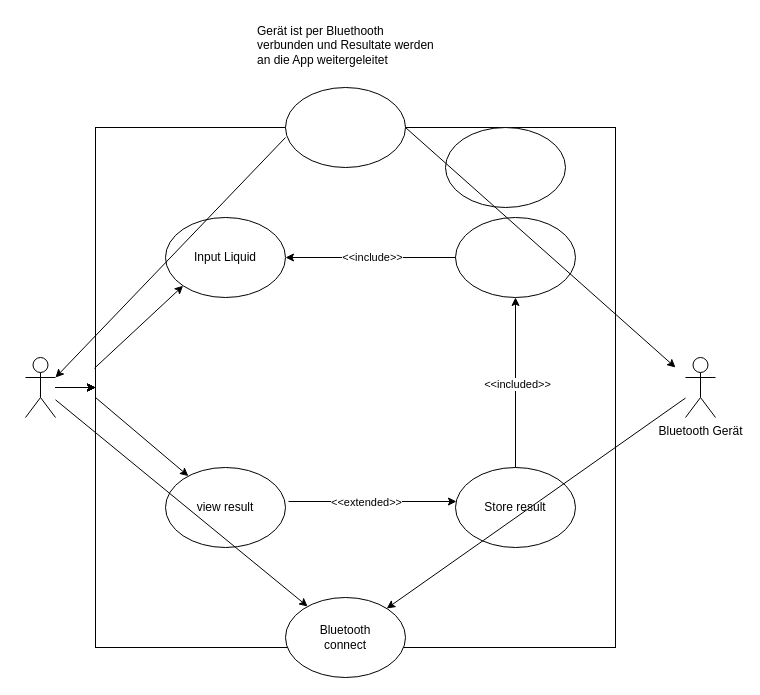
Some shapes in this 760 by 695 pixel diagram are drawn without their labels. Here are the shapes that lost their labels. From the top down, the box of each, then its label:
(284, 86, 406, 168): Bluetooth disconnect
(454, 216, 576, 298): test luiqid quality
(24, 356, 56, 418): user app
